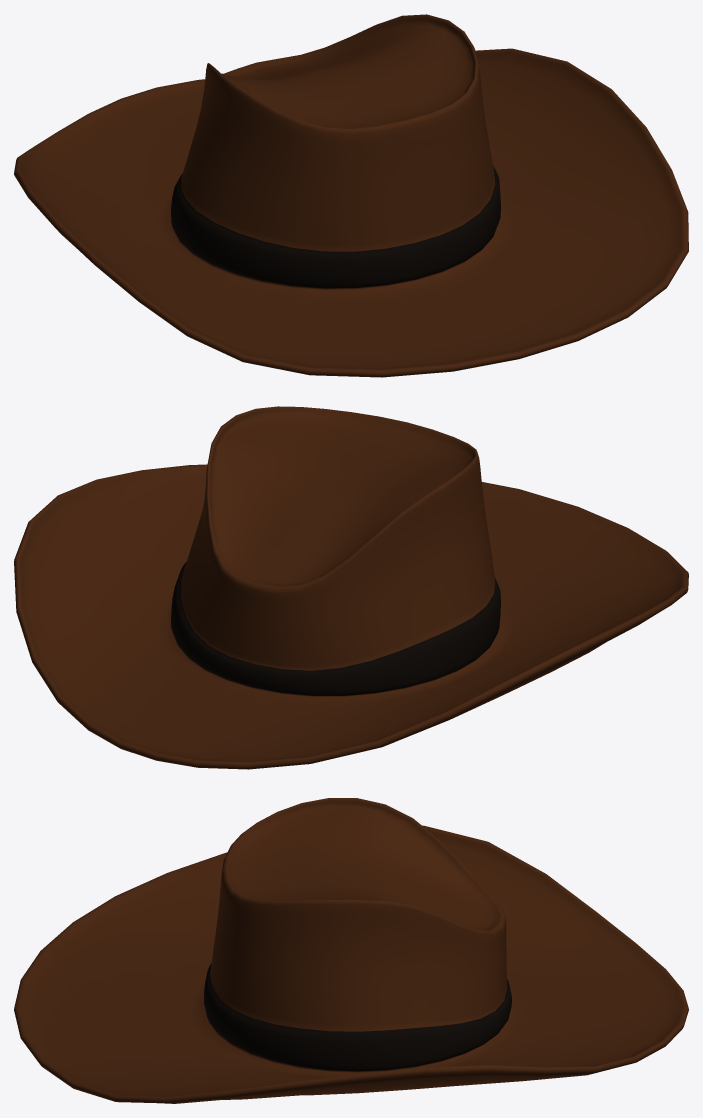
File: cowboy.fbx
3 views of the same model, one above another, from view 1: azimuth 30°, elevation 25°; view 2: azimuth 150°, elevation 25°; view 3: azimuth 270°, elevation 25° (orthographic). The views are drawn at different scales.
Parts seen in each view (by area): view 1: cowboy hat; view 2: cowboy hat; view 3: cowboy hat.
Part boxes in pixels (x1,y1,x2,y2): cowboy hat: (14,14,688,377); cowboy hat: (14,406,688,769); cowboy hat: (14,798,688,1103).
Size of the model in its own units: 249 by 77.11 by 282.
